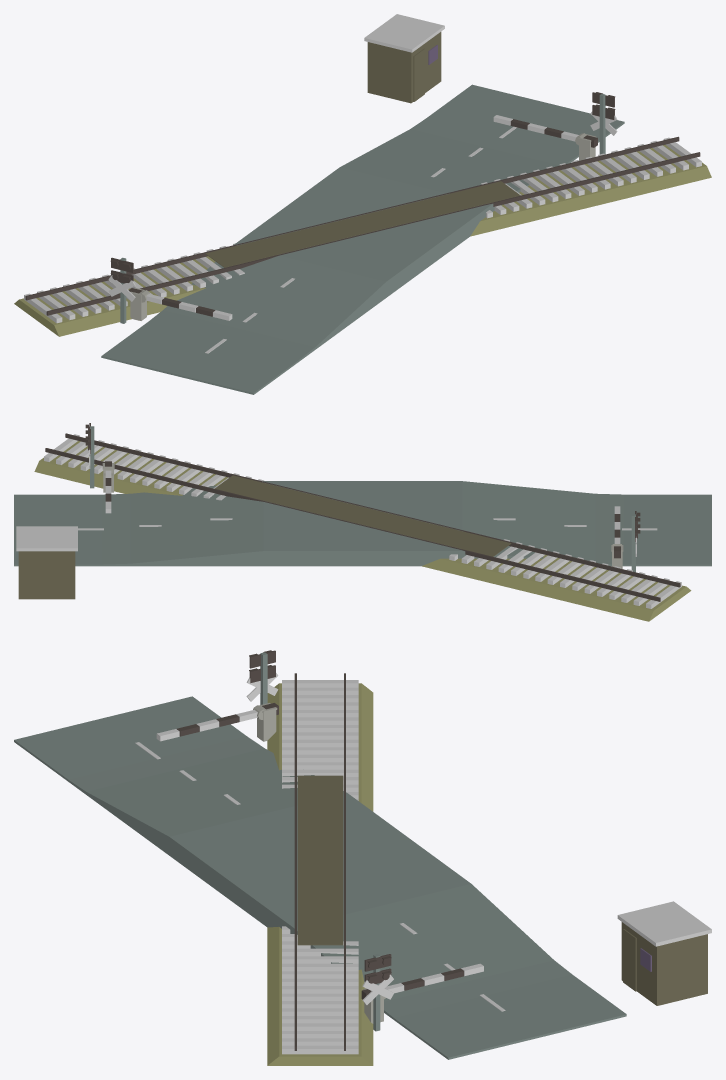
Rendered from SM_PasoNivel_30E_v1_FocosDobles_LOD0.fbx.
The picture shows the model from 3 angles, top to bottom: view 1: azimuth 30°, elevation 25°; view 2: azimuth 150°, elevation 25°; view 3: azimuth 270°, elevation 25°; orthographic projection. The views are drawn at different scales.
Visible parts, largest first — view 1: SM_paso_nivel_kit_v36_LOD0, Barrera_1, Barrera_2; view 2: SM_paso_nivel_kit_v36_LOD0, Barrera_1, Barrera_2; view 3: SM_paso_nivel_kit_v36_LOD0, Barrera_2, Barrera_1.
Boxes of the visible parts, left/top/right/bottom form: SM_paso_nivel_kit_v36_LOD0: left=14, top=14, right=711, bottom=394; Barrera_1: left=493, top=115, right=597, bottom=147; Barrera_2: left=128, top=288, right=232, bottom=320; SM_paso_nivel_kit_v36_LOD0: left=14, top=423, right=711, bottom=621; Barrera_1: left=104, top=461, right=113, bottom=513; Barrera_2: left=612, top=506, right=621, bottom=558; SM_paso_nivel_kit_v36_LOD0: left=14, top=650, right=711, bottom=1065; Barrera_2: left=156, top=703, right=278, bottom=741; Barrera_1: left=361, top=963, right=483, bottom=999.
Bounding box in the file's own units: 30 × 2.8 × 23.71.
